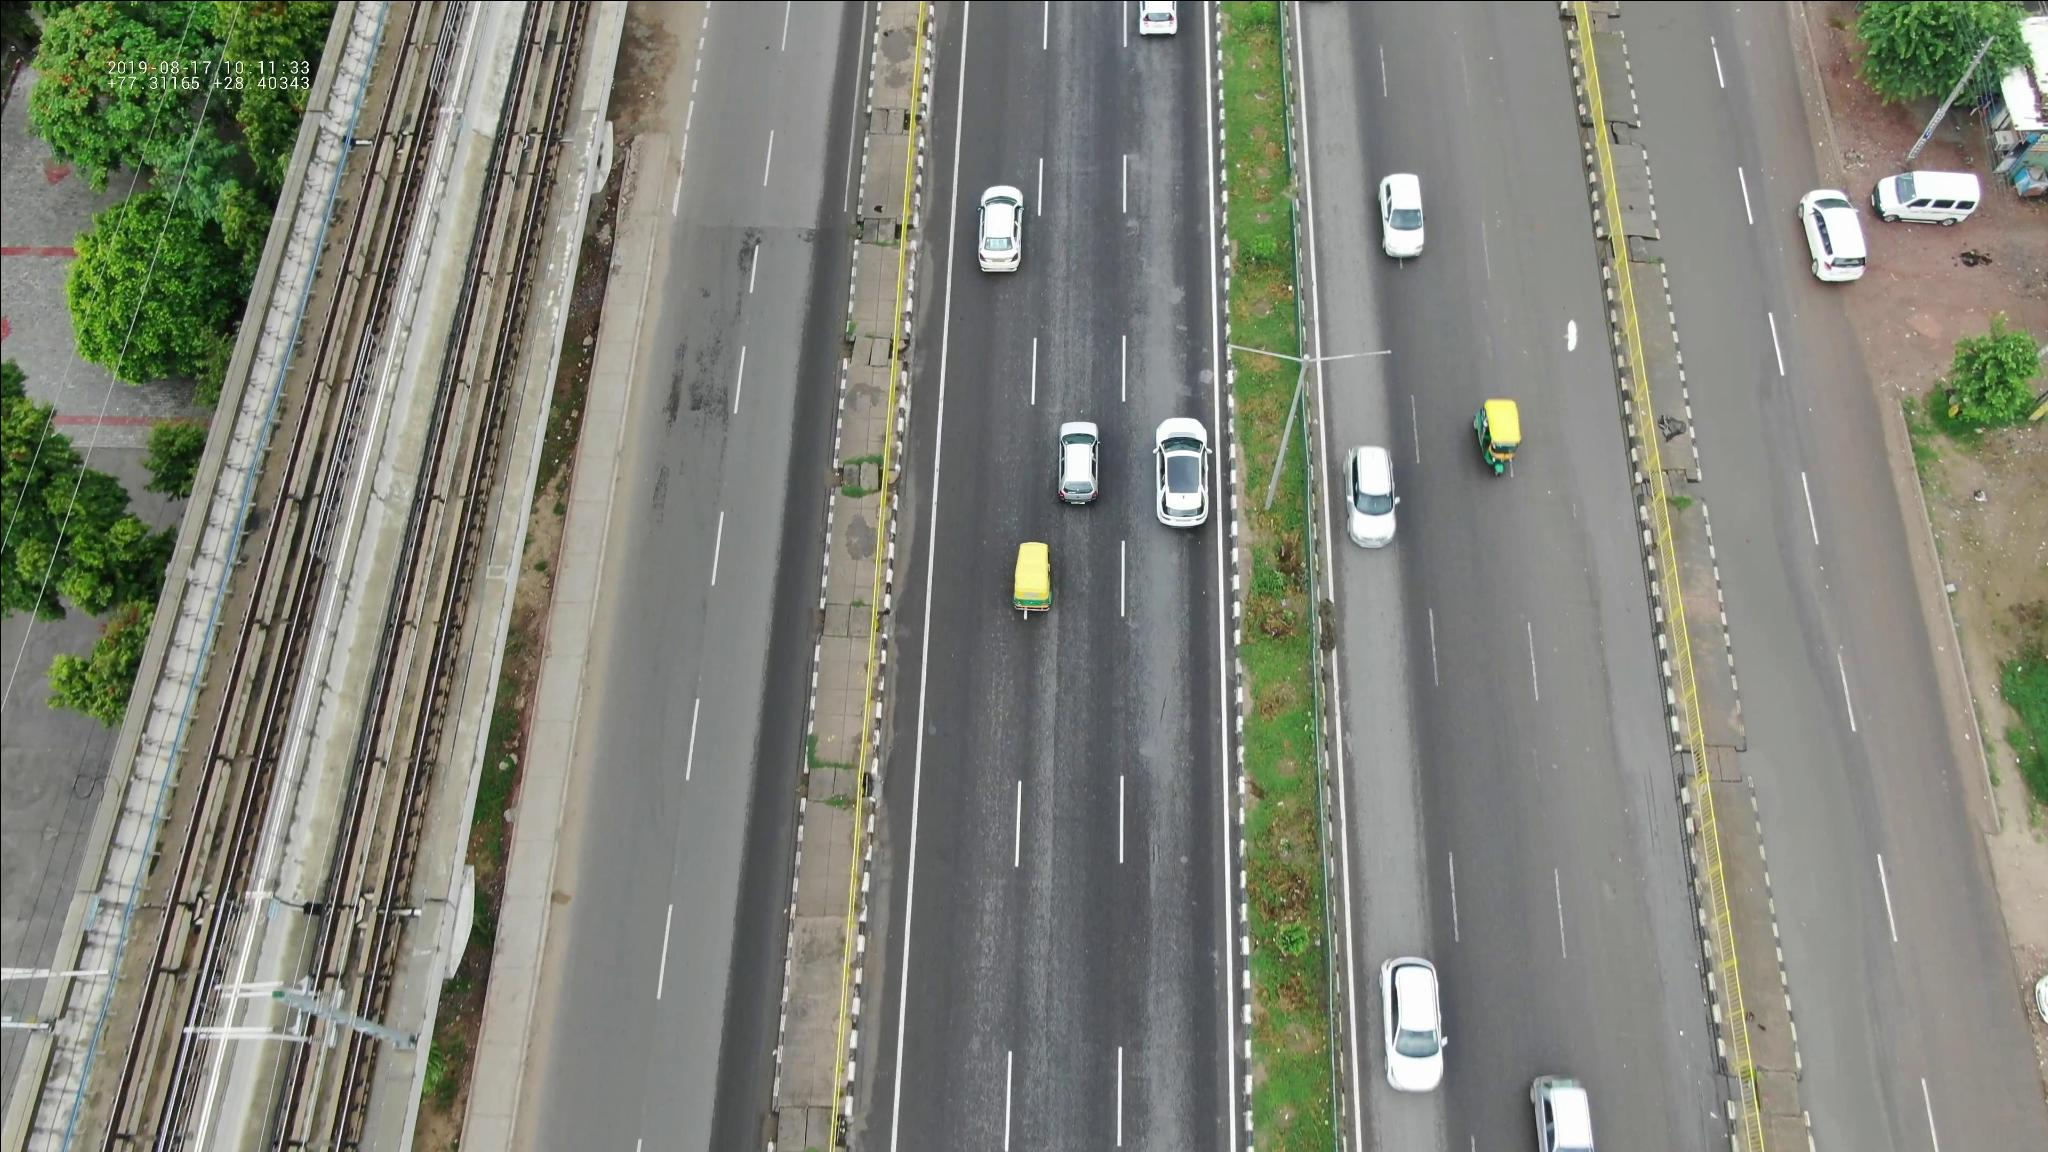Waterlogging: (1741, 634, 1889, 1020), (1494, 46, 1622, 401), (1567, 491, 1677, 821)
